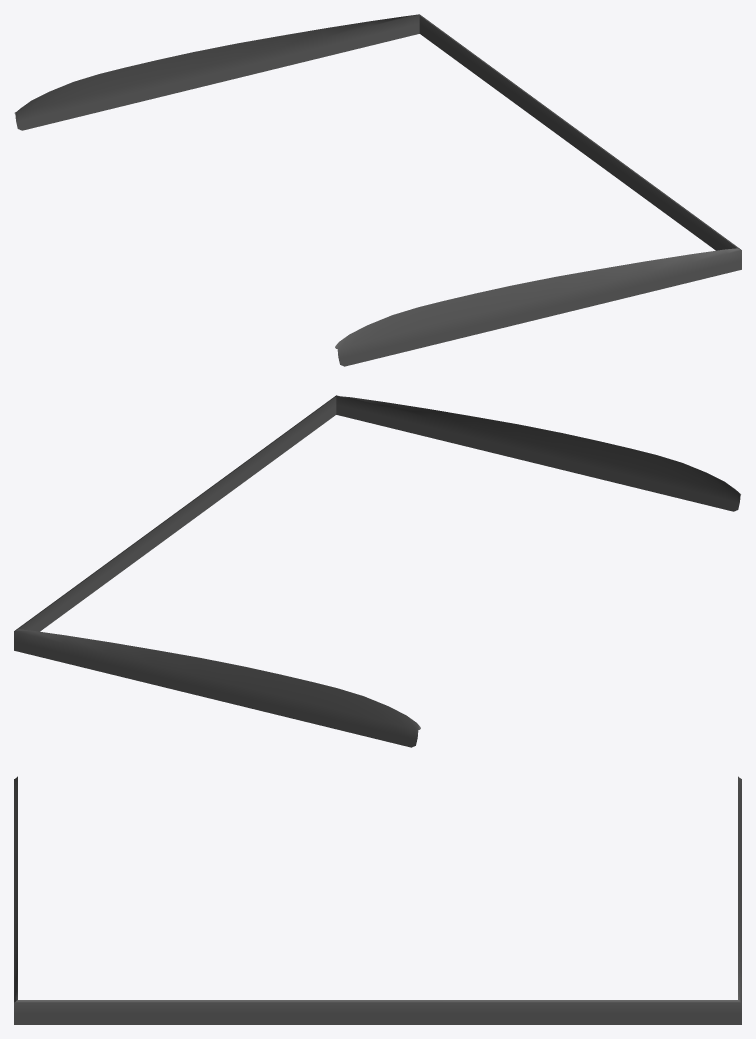
File: Book_29_book_29_1.obj
The picture shows the model from 3 angles, top to bottom: view 1: azimuth 30°, elevation 25°; view 2: azimuth 150°, elevation 25°; view 3: azimuth 270°, elevation 25°; orthographic projection. The views are drawn at different scales.
Bounding box in the file's own units: 0.1569 × 0.0147 × 0.2158.
Materials: 1 (1 with a texture image).
